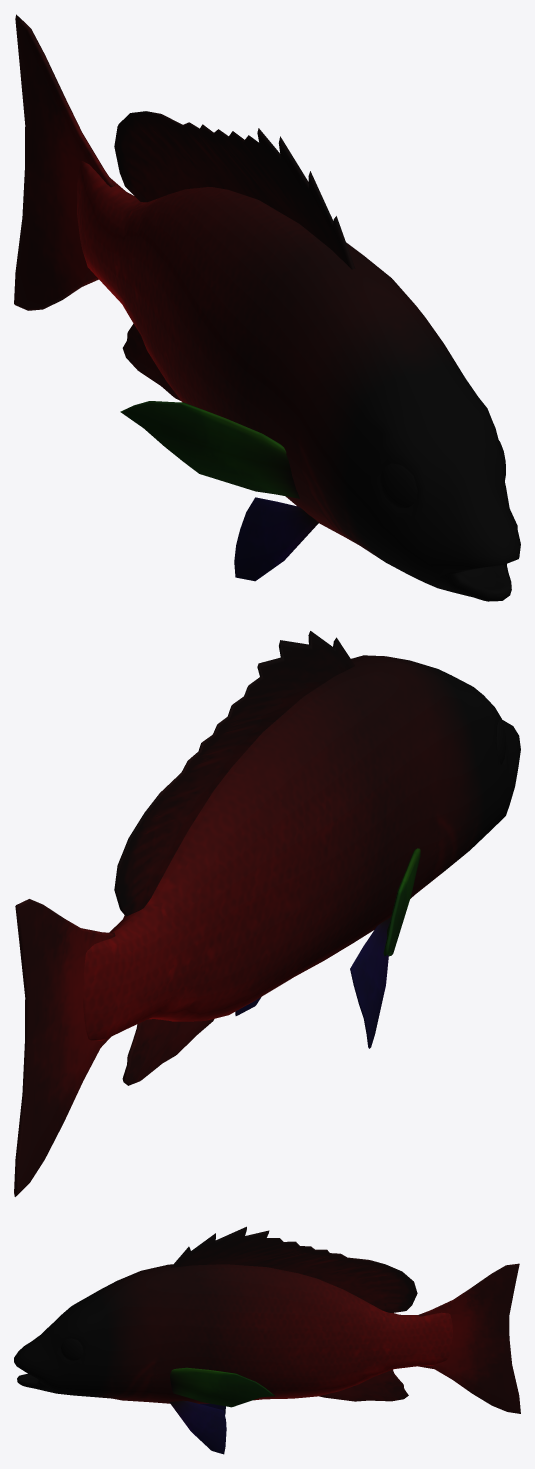
The model's file is grey_snapper.glb.
3 views of the same model, one above another, from view 1: azimuth 30°, elevation 25°; view 2: azimuth 150°, elevation 25°; view 3: azimuth 270°, elevation 25° (orthographic). The views are drawn at different scales.
Parts seen in each view (by area): view 1: fish_vertColor_low; view 2: fish_vertColor_low; view 3: fish_vertColor_low.
Boxes of the visible parts, left/top/right/bottom form: fish_vertColor_low: left=14, top=14, right=520, bottom=601; fish_vertColor_low: left=14, top=631, right=520, bottom=1196; fish_vertColor_low: left=14, top=1226, right=520, bottom=1454.
Bounding box in the file's own units: 12.55 × 18.46 × 40.16.
Materials: 1 (1 with a texture image).
